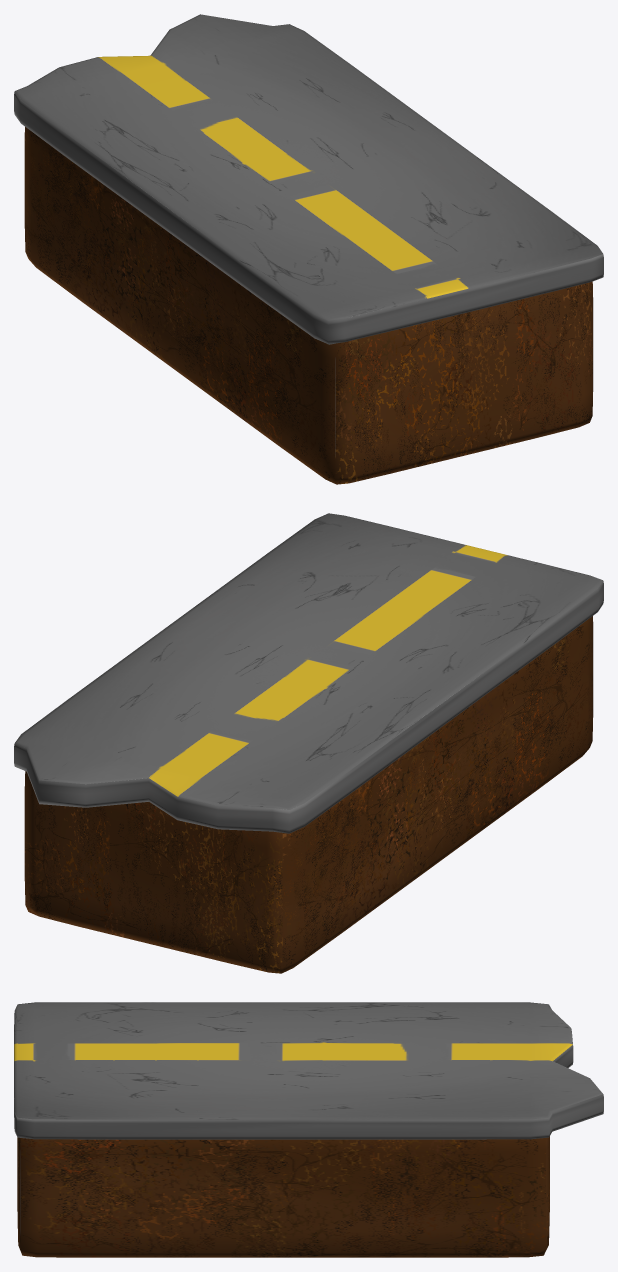
Rendered from sirang_kalsada.fbx.
The picture shows the model from 3 angles, top to bottom: view 1: azimuth 30°, elevation 25°; view 2: azimuth 150°, elevation 25°; view 3: azimuth 270°, elevation 25°; orthographic projection. The views are drawn at different scales.
Parts seen in each view (by area): view 1: Cube; view 2: Cube; view 3: Cube.
Part boxes in pixels (x1=…): Cube: x1=14, y1=14, x2=603, y2=484; Cube: x1=14, y1=513, x2=603, y2=973; Cube: x1=14, y1=1002, x2=603, y2=1257.
Bounding box in the file's own units: 281 × 163 × 595.
2 materials, 2 textured.
